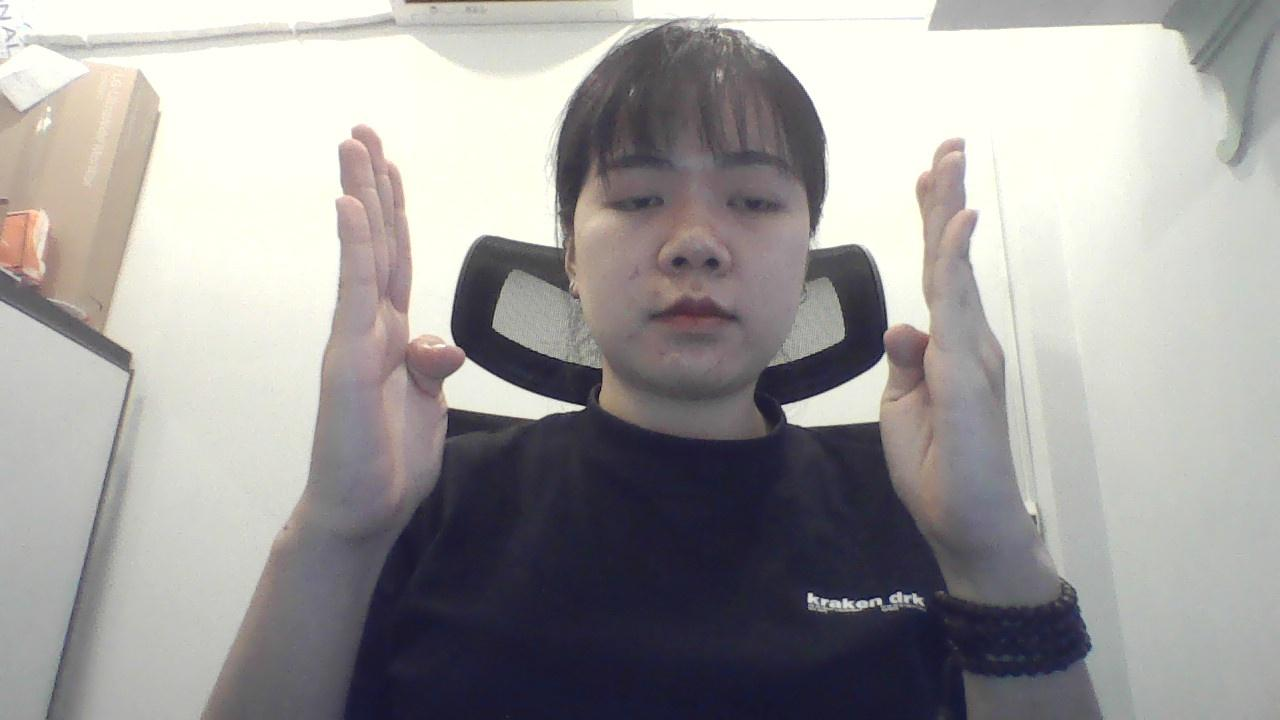B: (850, 124, 1084, 628), (262, 99, 473, 581)
